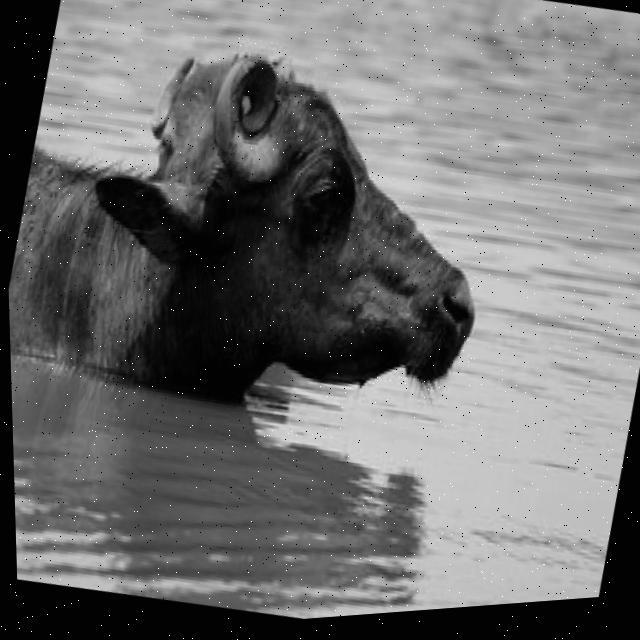Buffalo: (1, 0, 528, 468)
